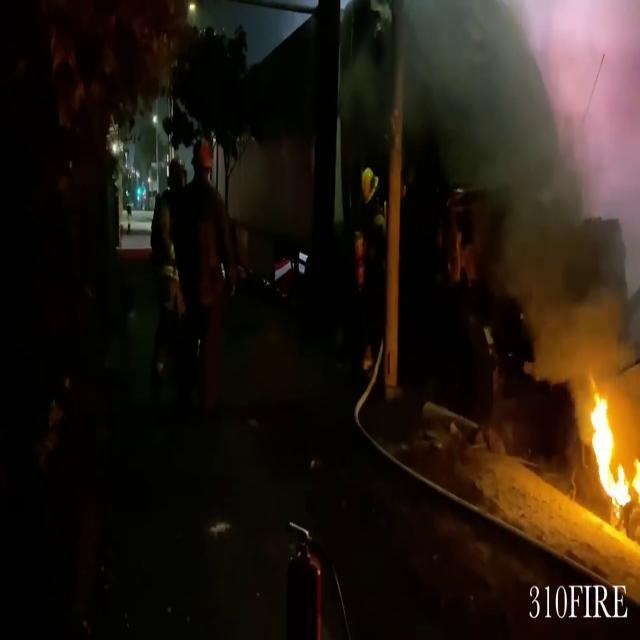Fire: (584, 381, 640, 521)
Smoke: (414, 0, 640, 280)
